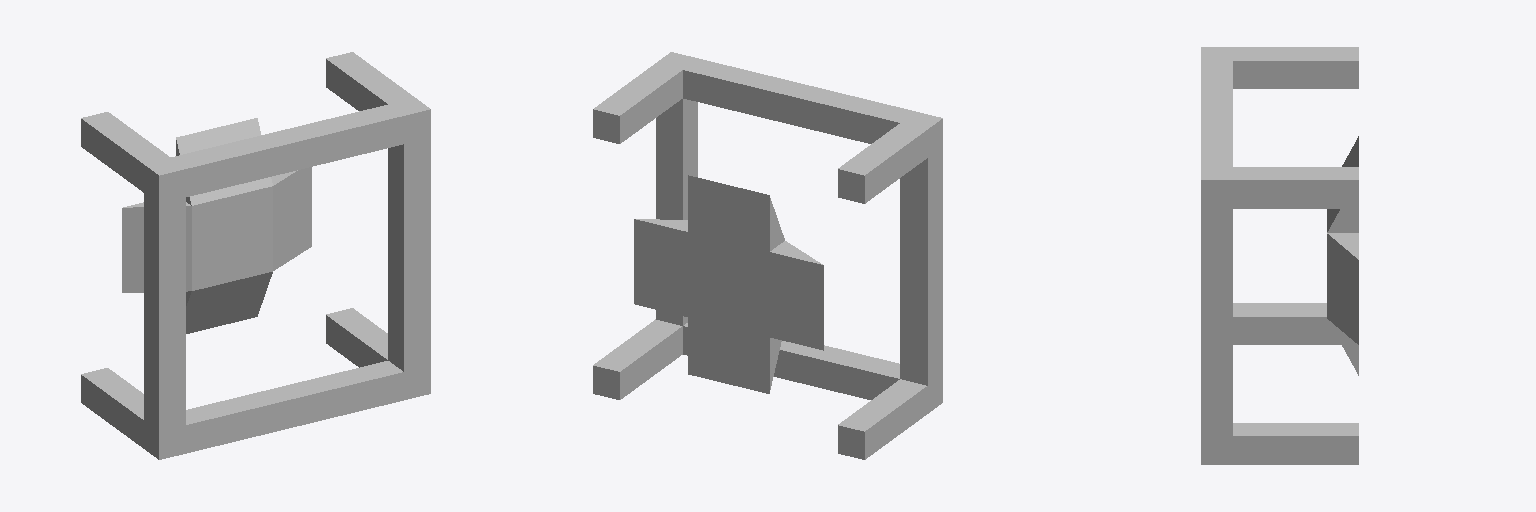
Rendered from arena.obj.
3 renders of one model, left to right at view 1: azimuth 30°, elevation 25°; view 2: azimuth 150°, elevation 25°; view 3: azimuth 270°, elevation 25°, orthographic.
Visible parts, largest first — view 1: obj_0; view 2: obj_0; view 3: obj_0.
Part boxes in pixels (bbox=[...]): obj_0: bbox=[81, 52, 430, 459]; obj_0: bbox=[593, 52, 942, 459]; obj_0: bbox=[1201, 47, 1358, 464].
Bounding box in the file's own units: 200 × 200 × 100.